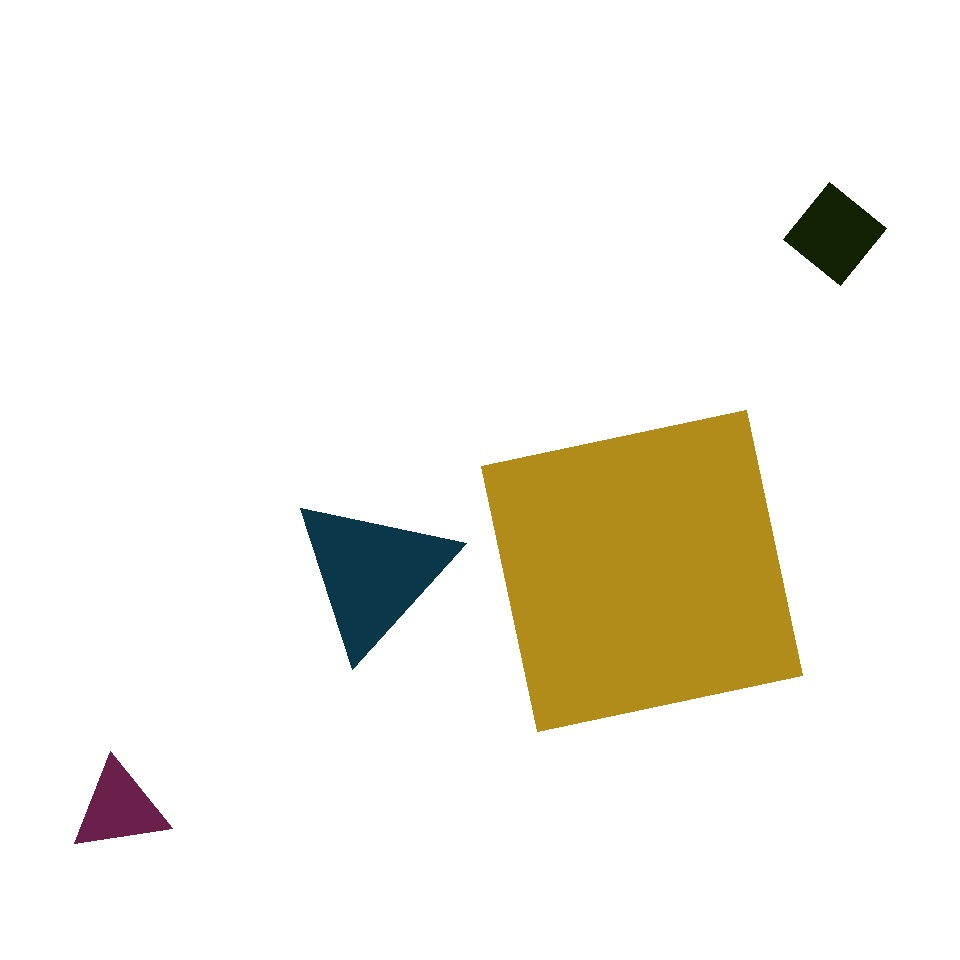circle: (290, 494, 456, 654), (206, 710, 308, 808), (70, 762, 168, 854)
square: (481, 411, 802, 732), (176, 594, 388, 808), (163, 612, 292, 740), (784, 182, 886, 286)
triangle: (636, 8, 946, 318), (0, 221, 276, 496), (340, 133, 564, 356)
